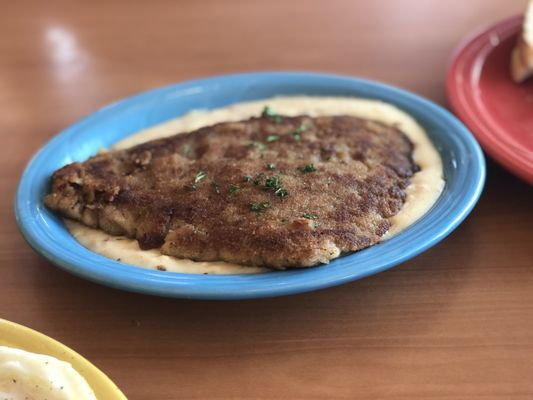sushi: (0, 316, 130, 400)
